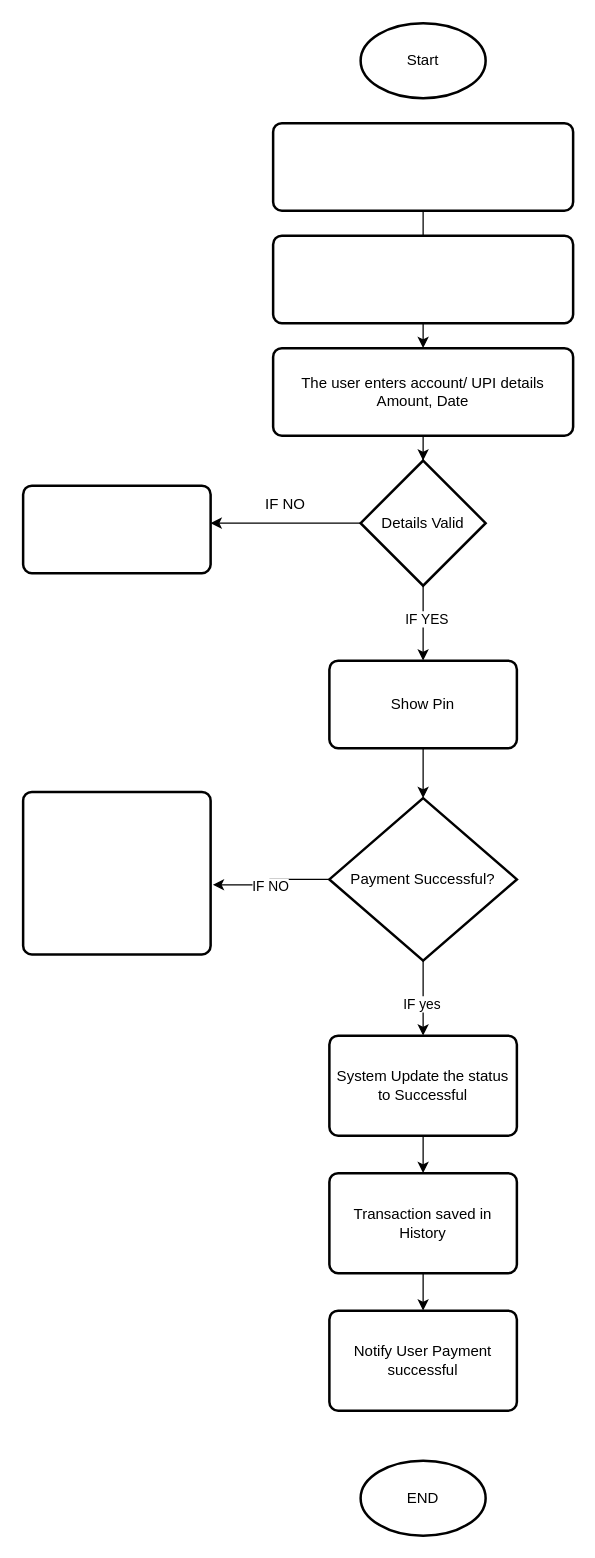
This 595x1558 diagram has some shape labels left out. The shapes that lost their labels are listed below. From the top down, each one's centre as x and y in pixels, then its label:
At pixel 422 166: "The user opens the payment module".
At pixel 422 279: "User Select Payment type (UPI/ Bank Transfer)".
At pixel 116 529: "Show Error details/ Invalid Details".
At pixel 116 872: "Show Error Message and notify User".
